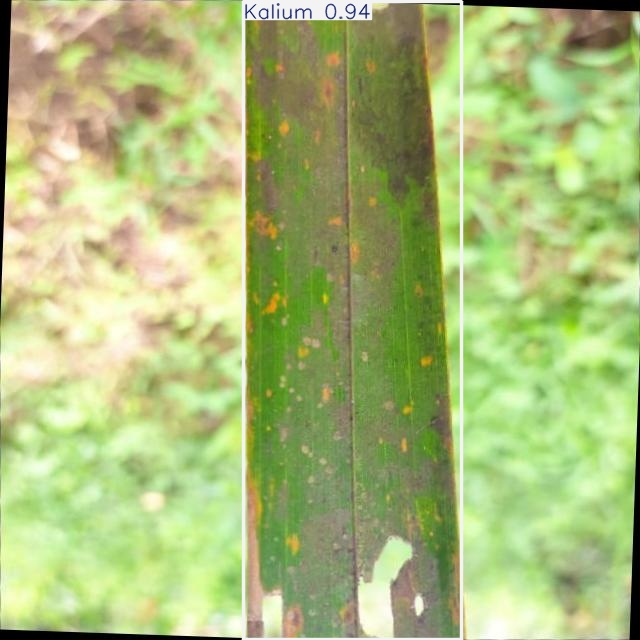Kalium: (243, 1, 461, 639)
